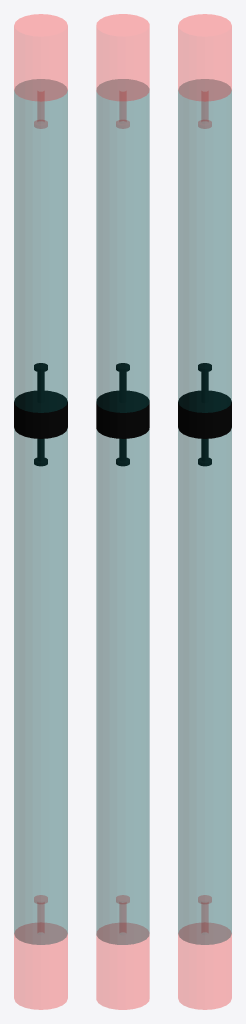
Rendered from VerticalFittingTreeSplit.gltf.
The picture shows the model from 3 angles, left to right: view 1: azimuth 90°, elevation 25°; view 2: azimuth 150°, elevation 25°; view 3: azimuth 270°, elevation 25°; orthographic projection.
Parts seen in each view (by area): view 1: 674246a6-55b7-4ec7-94a9-f6286c18df7a_mesh, 00052566-4dfe-4d82-b73e-9f31df74aa70_mesh, 885080de-0e6d-4a71-97ed-bb9f787197dd_mesh, 74abf544-08d8-4482-b393-3ee7dbe9fd7e_mesh, 88b15e11-8e1d-459d-a811-075c577ef6b1_mesh; view 2: 674246a6-55b7-4ec7-94a9-f6286c18df7a_mesh, 00052566-4dfe-4d82-b73e-9f31df74aa70_mesh, 885080de-0e6d-4a71-97ed-bb9f787197dd_mesh, 74abf544-08d8-4482-b393-3ee7dbe9fd7e_mesh, 88b15e11-8e1d-459d-a811-075c577ef6b1_mesh; view 3: 674246a6-55b7-4ec7-94a9-f6286c18df7a_mesh, 00052566-4dfe-4d82-b73e-9f31df74aa70_mesh, 885080de-0e6d-4a71-97ed-bb9f787197dd_mesh, 74abf544-08d8-4482-b393-3ee7dbe9fd7e_mesh, 88b15e11-8e1d-459d-a811-075c577ef6b1_mesh.
Boxes of the visible parts, x1,y1,x2,y2 form: 674246a6-55b7-4ec7-94a9-f6286c18df7a_mesh: (14,428,67,944); 00052566-4dfe-4d82-b73e-9f31df74aa70_mesh: (14,79,67,412); 885080de-0e6d-4a71-97ed-bb9f787197dd_mesh: (14,14,67,128); 74abf544-08d8-4482-b393-3ee7dbe9fd7e_mesh: (14,895,67,1009); 88b15e11-8e1d-459d-a811-075c577ef6b1_mesh: (14,363,67,466); 674246a6-55b7-4ec7-94a9-f6286c18df7a_mesh: (96,429,149,944); 00052566-4dfe-4d82-b73e-9f31df74aa70_mesh: (96,79,149,412); 885080de-0e6d-4a71-97ed-bb9f787197dd_mesh: (96,14,149,128); 74abf544-08d8-4482-b393-3ee7dbe9fd7e_mesh: (96,895,149,1009); 88b15e11-8e1d-459d-a811-075c577ef6b1_mesh: (96,363,149,466); 674246a6-55b7-4ec7-94a9-f6286c18df7a_mesh: (178,428,231,944); 00052566-4dfe-4d82-b73e-9f31df74aa70_mesh: (178,79,231,412); 885080de-0e6d-4a71-97ed-bb9f787197dd_mesh: (178,14,231,128); 74abf544-08d8-4482-b393-3ee7dbe9fd7e_mesh: (178,895,231,1009); 88b15e11-8e1d-459d-a811-075c577ef6b1_mesh: (178,363,231,466).
Bounding box in the file's own units: 0.15 × 3 × 0.15.
